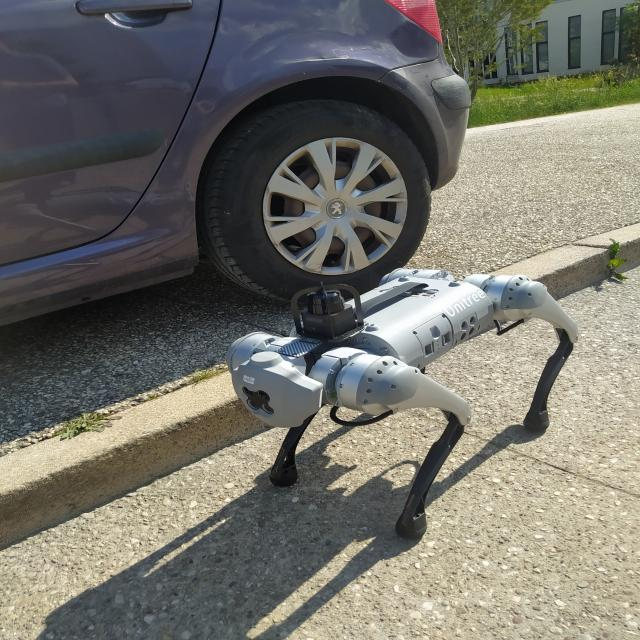unitree-go1-robot: (214, 254, 601, 553)
